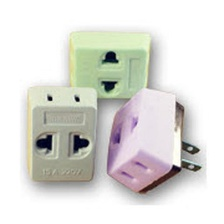three_eye_plug: (100, 83, 204, 203), (19, 77, 98, 188), (58, 24, 158, 111)
